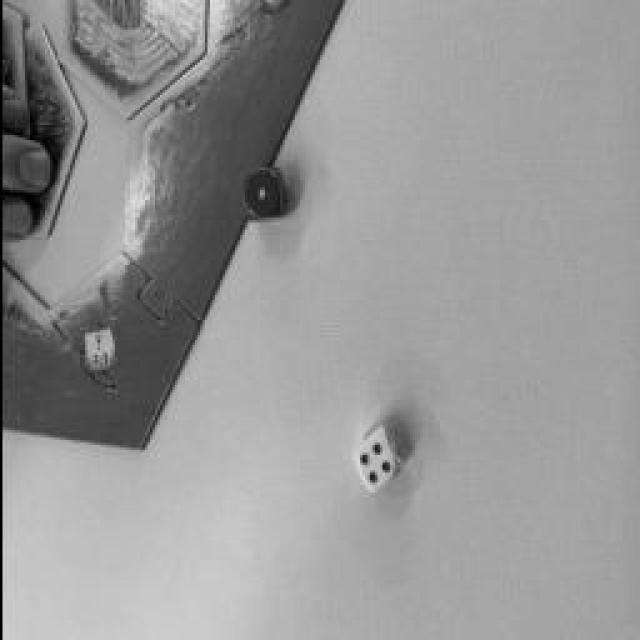dice_1: (241, 170, 279, 220)
dice_4: (352, 435, 392, 490)
